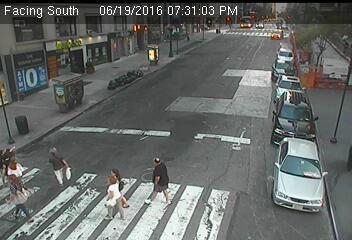neg: (236, 134, 266, 173), (289, 142, 319, 181), (297, 36, 324, 73), (171, 69, 198, 105), (137, 41, 163, 76), (208, 77, 234, 112), (237, 32, 263, 66), (49, 73, 74, 106), (111, 61, 130, 87), (289, 86, 308, 111)
pos: (141, 153, 183, 208), (2, 171, 39, 220), (39, 144, 71, 187), (98, 177, 128, 218)
